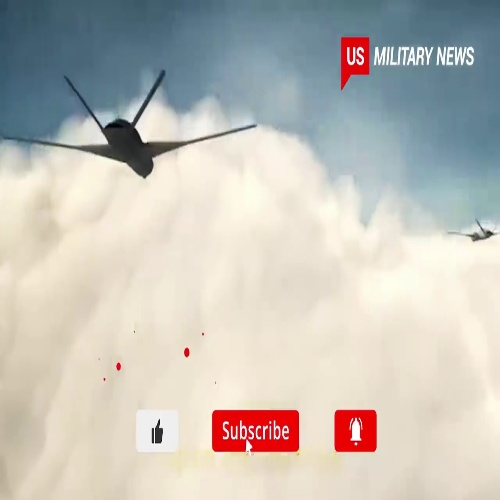uav188: (8, 70, 258, 178), (448, 215, 498, 245)
